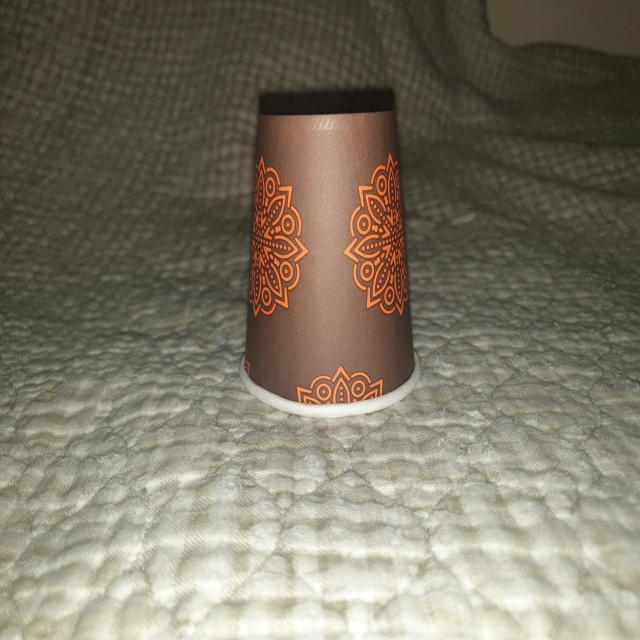cups: (234, 103, 426, 424)
